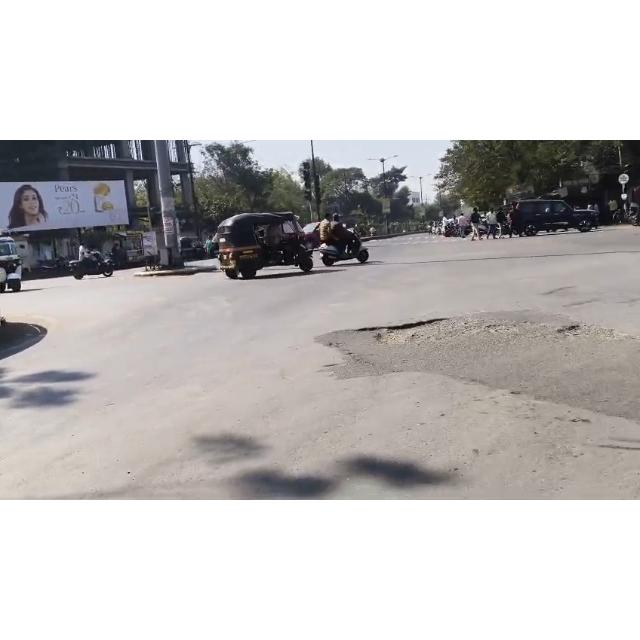auto: (215, 211, 322, 281), (178, 238, 210, 262)
car: (510, 197, 602, 235)
